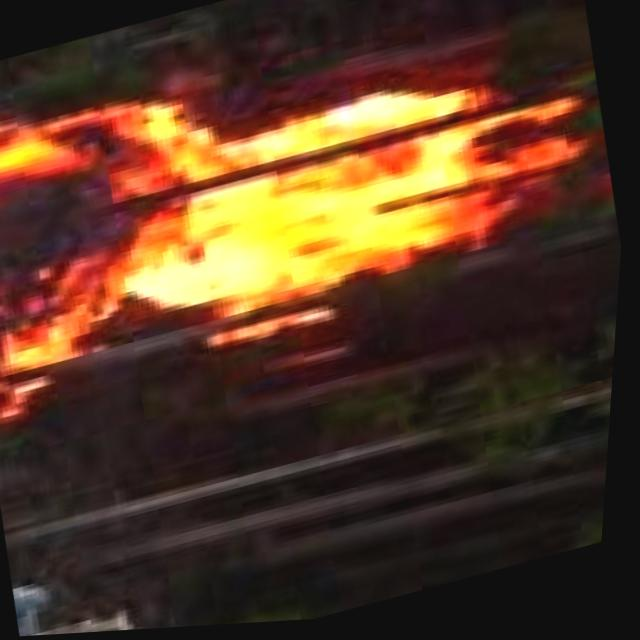fire: (0, 0, 623, 424)
